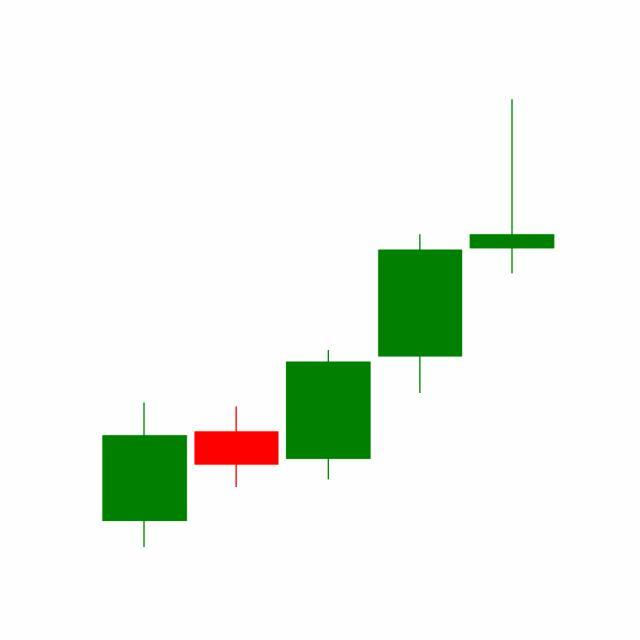Advance Block: (280, 99, 555, 485)
